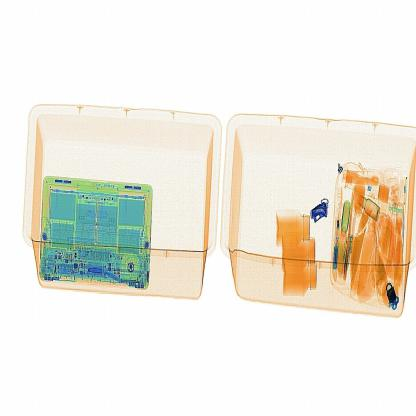knife: (311, 199, 333, 225)
